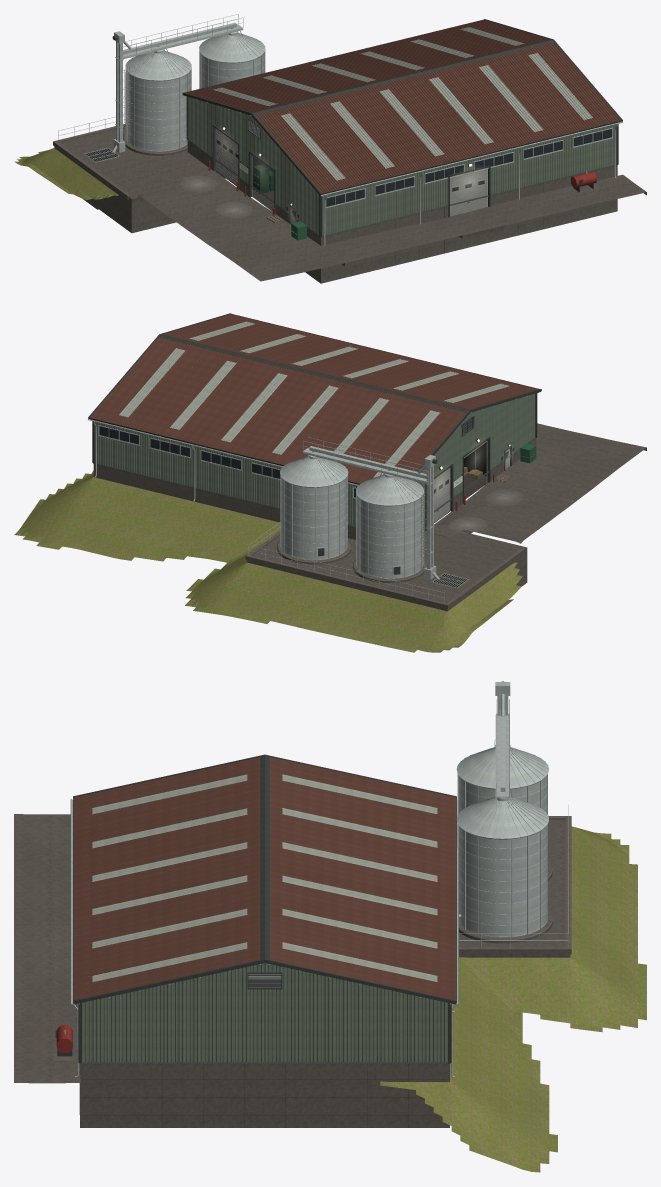
Rendered from agri_halle.glb.
3 views of the same model, one above another, from view 1: azimuth 30°, elevation 25°; view 2: azimuth 150°, elevation 25°; view 3: azimuth 270°, elevation 25° (orthographic). The views are drawn at different scales.
Parts seen in each view (by area): view 1: AgriHalle_steel, AgriHalle_apron, AgriHalle_galv, AgriHalle_concrete, AgriHalle_bank, AgriHalle_glass, AgriHalle_glow; view 2: AgriHalle_steel, AgriHalle_bank, AgriHalle_galv, AgriHalle_apron, AgriHalle_concrete, AgriHalle_glass; view 3: AgriHalle_steel, AgriHalle_bank, AgriHalle_concrete, AgriHalle_galv, AgriHalle_apron.
Boxes of the visible parts, bbox=[...] form: AgriHalle_steel: bbox=[85, 19, 622, 240]; AgriHalle_apron: bbox=[60, 126, 646, 281]; AgriHalle_galv: bbox=[58, 14, 623, 245]; AgriHalle_concrete: bbox=[53, 124, 617, 283]; AgriHalle_bank: bbox=[14, 148, 118, 200]; AgriHalle_glass: bbox=[217, 129, 611, 216]; AgriHalle_glow: bbox=[195, 137, 476, 219]; AgriHalle_steel: bbox=[88, 313, 541, 587]; AgriHalle_bank: bbox=[14, 470, 522, 652]; AgriHalle_galv: bbox=[88, 390, 541, 603]; AgriHalle_apron: bbox=[252, 423, 646, 602]; AgriHalle_concrete: bbox=[93, 438, 536, 611]; AgriHalle_glass: bbox=[99, 426, 508, 497]; AgriHalle_steel: bbox=[55, 681, 503, 1063]; AgriHalle_bank: bbox=[380, 826, 646, 1172]; AgriHalle_concrete: bbox=[53, 816, 571, 1127]; AgriHalle_galv: bbox=[64, 682, 568, 1077]; AgriHalle_apron: bbox=[14, 814, 565, 1083].
Size of the model in its own units: 49.05 by 16.47 by 42.29.
9 materials, 7 textured.
